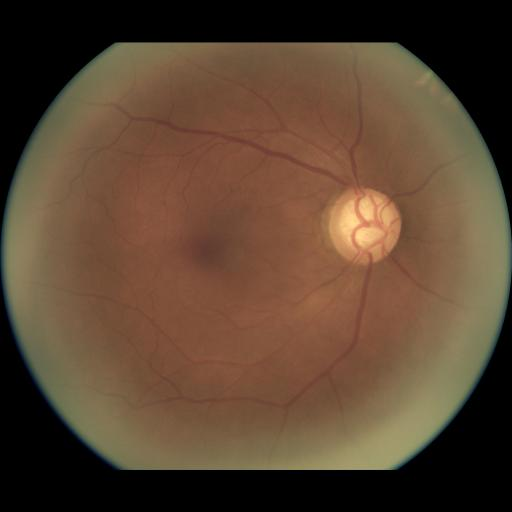Optic Cup: (342, 195, 391, 249)
Optic Disc: (329, 187, 401, 265)
